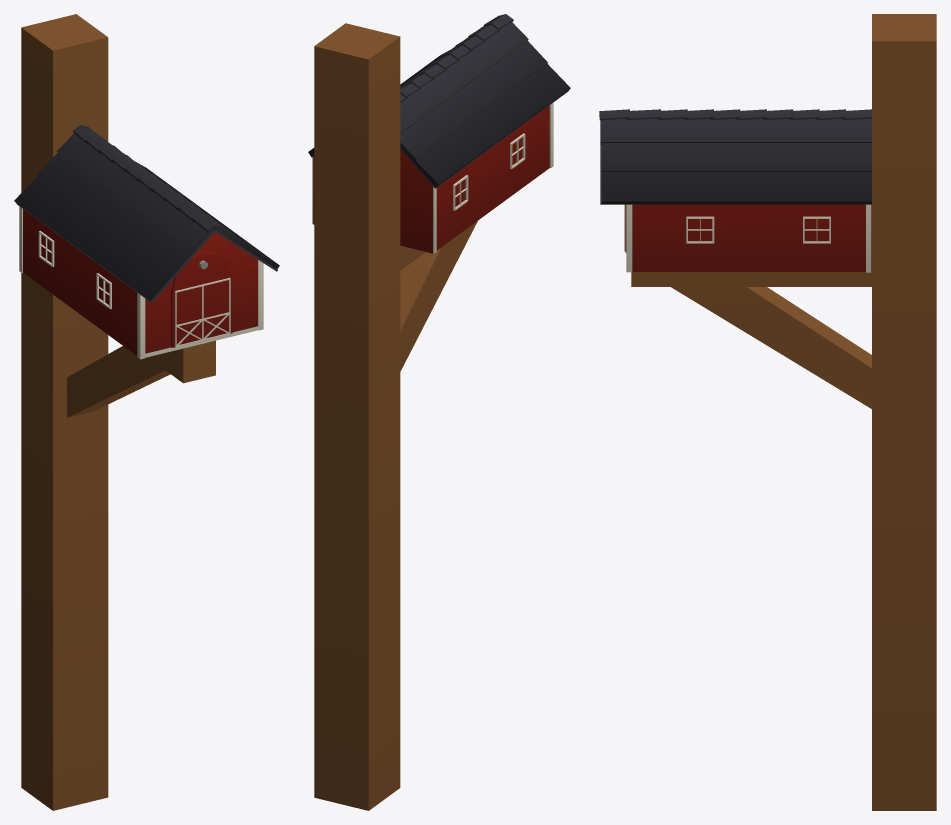
File: Prop_Letterbox_02.obj
3 views of the same model, side by side, from view 1: azimuth 30°, elevation 25°; view 2: azimuth 150°, elevation 25°; view 3: azimuth 270°, elevation 25° (orthographic). The views are drawn at different scales.
Parts seen in each view (by area): view 1: Prop_Letterbox_02, Prop_Letterbox_Door_02; view 2: Prop_Letterbox_02; view 3: Prop_Letterbox_02.
Part boxes in pixels (x1,y1,x2,y2): Prop_Letterbox_02: (14, 14, 279, 810); Prop_Letterbox_Door_02: (171, 252, 232, 347); Prop_Letterbox_02: (308, 14, 570, 810); Prop_Letterbox_02: (599, 14, 936, 810).
Bounding box in the file's own units: 0.263 × 1.44 × 0.5733.
Materials: 1 (1 with a texture image).
